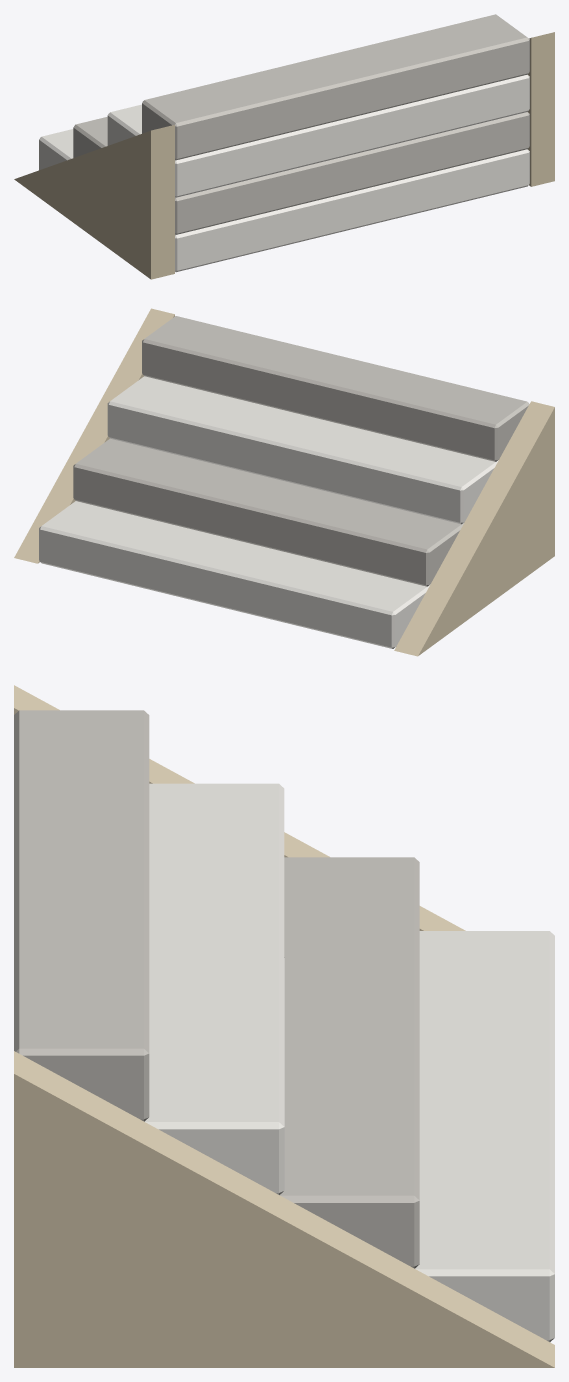
File: SM_GrandStairs.fbx
3 renders of one model, top to bottom at view 1: azimuth 30°, elevation 25°; view 2: azimuth 150°, elevation 25°; view 3: azimuth 270°, elevation 25°, orthographic. The views are drawn at different scales.
Parts seen in each view (by area): view 1: SM_GrandStairs; view 2: SM_GrandStairs; view 3: SM_GrandStairs.
Part boxes in pixels (x1,y1,x2,y2): SM_GrandStairs: [14, 14, 554, 279]; SM_GrandStairs: [14, 308, 554, 656]; SM_GrandStairs: [14, 685, 554, 1367].
Size of the model in its own units: 3.4 by 2 by 1.2.
